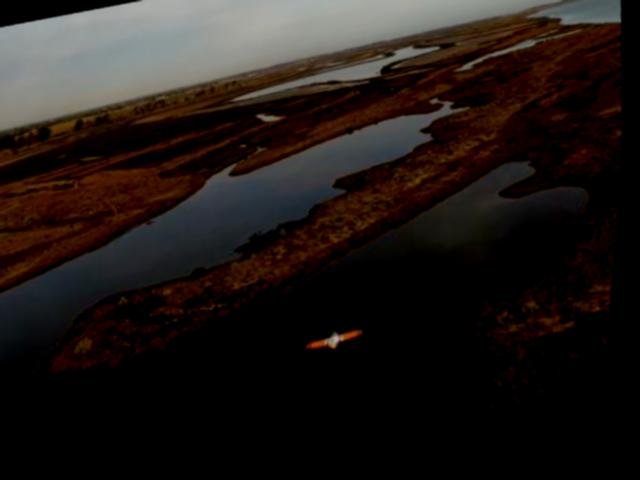uav: (310, 333, 372, 370)
